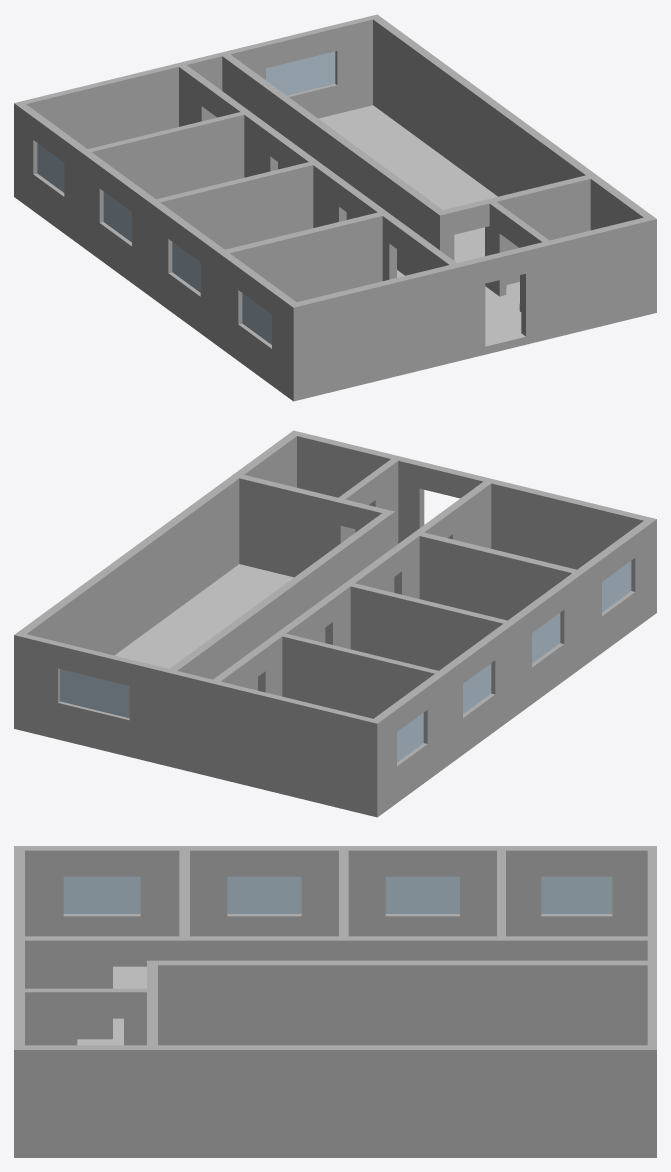
Rendered from office final 2.fbx.
3 renders of one model, top to bottom at view 1: azimuth 30°, elevation 25°; view 2: azimuth 150°, elevation 25°; view 3: azimuth 270°, elevation 25°, orthographic. The views are drawn at different scales.
Parts seen in each view (by area): view 1: Cube, Cube.002, Cube.001; view 2: Cube, Cube.002, Cube.001; view 3: Cube, Cube.002, Cube.001.
Boxes of the visible parts, x1,y1,x2,y2 form: Cube: [14, 16, 590, 381]; Cube.002: [288, 14, 656, 385]; Cube.001: [14, 97, 656, 401]; Cube: [22, 459, 651, 801]; Cube.002: [14, 430, 656, 714]; Cube.001: [14, 529, 656, 817]; Cube: [25, 846, 656, 1045]; Cube.002: [14, 846, 656, 1139]; Cube.001: [14, 966, 656, 1157].
Bounding box in the file's own units: 329 × 81.1 × 438.
